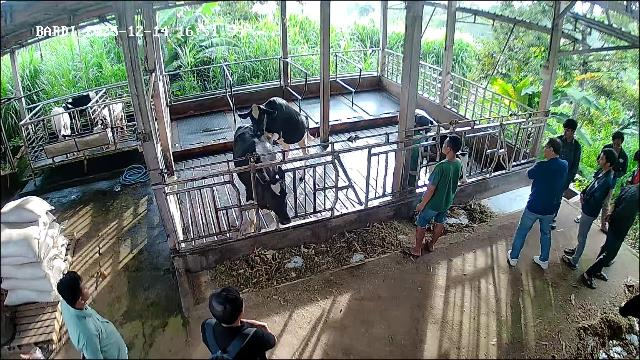mounting: (241, 97, 312, 183)
